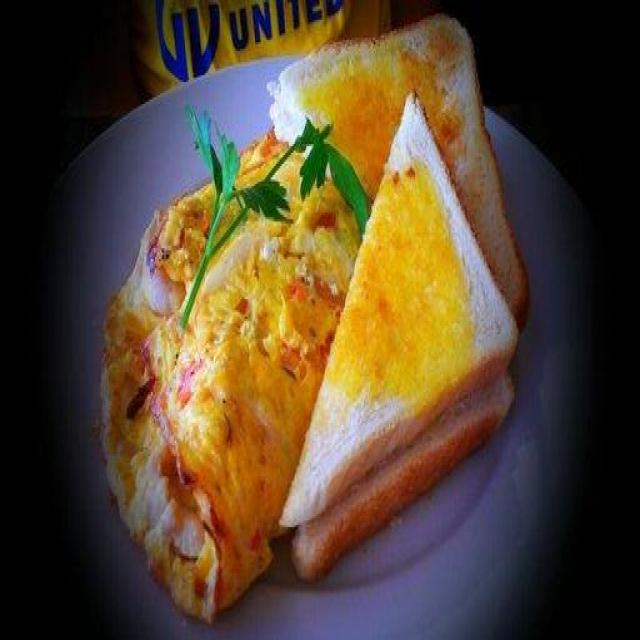food_waste: (86, 95, 361, 613), (291, 88, 532, 571), (267, 17, 547, 313)
